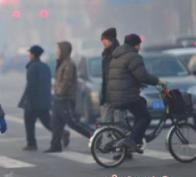person: (84, 31, 196, 168), (43, 41, 104, 154), (16, 44, 72, 152), (97, 26, 133, 160)
